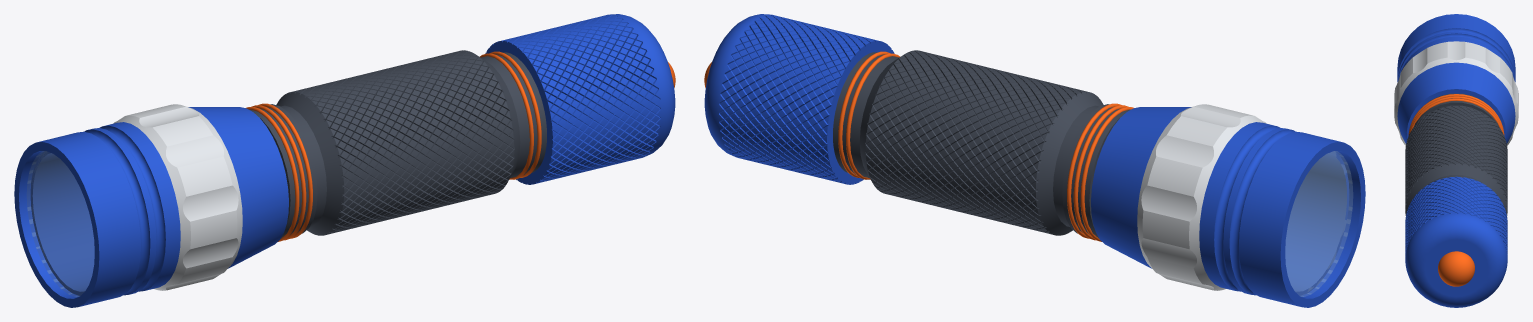
File: Flashlight Prototype.glb
3 renders of one model, left to right at view 1: azimuth 30°, elevation 25°; view 2: azimuth 150°, elevation 25°; view 3: azimuth 270°, elevation 25°, orthographic. The views are drawn at different scales.
Visible parts, largest first — view 1: Flash Light Prototype; view 2: Flash Light Prototype; view 3: Flash Light Prototype.
Part boxes in pixels (x1,y1,x2,y2): Flash Light Prototype: [14, 14, 675, 307]; Flash Light Prototype: [704, 14, 1365, 307]; Flash Light Prototype: [1394, 14, 1518, 307].
Size of the model in its own units: 15.92 by 3.98 by 4.01.
